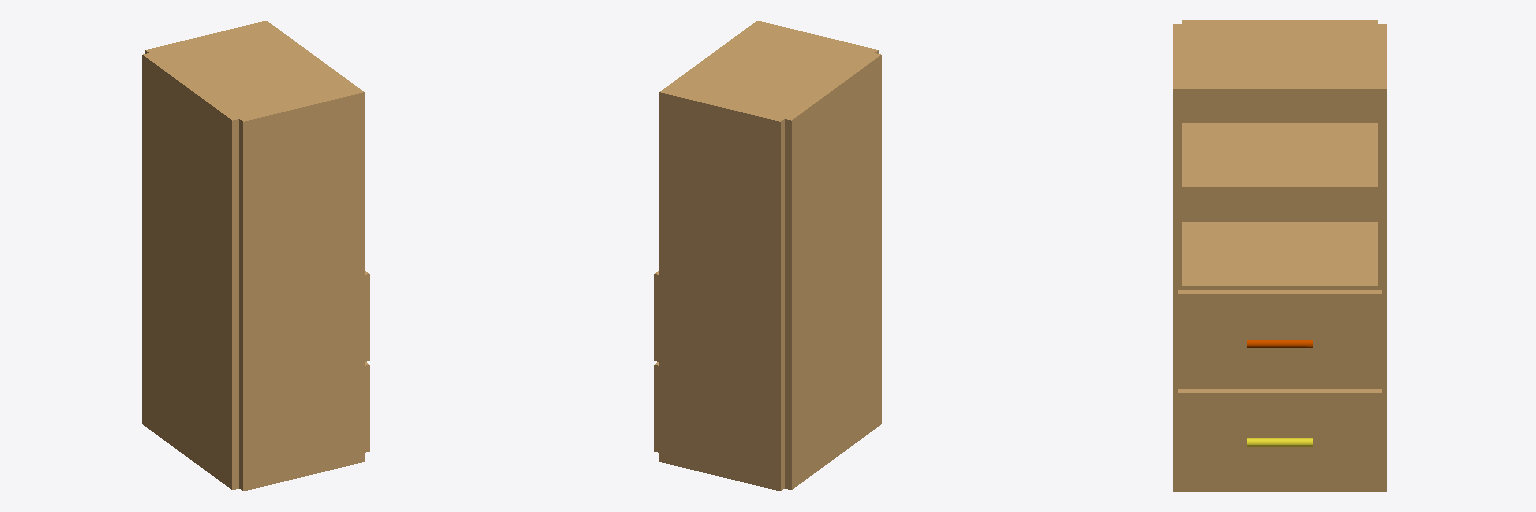
URDF robot description (drawer_shelf):
<robot name="drawer_shelf">

  <material name="Black">
    <color rgba="0.0 0.0 0.0 1.0"/>
  </material>
  <material name="Blue">
    <color rgba="0.1 0.4 0.8 1.0"/>
  </material>
  <material name="Green">
    <color rgba="0.0 0.8 0.0 1.0"/>
  </material>
  <material name="Grey">
    <color rgba="0.5 0.5 0.5 1.0"/>
  </material>
  <material name="Silver">
    <color rgba="0.95 0.95 0.95 1.0"/>
  </material>
  <material name="Wood">
    <color rgba="0.827 0.675 0.463 1.0"/>
  </material>
  <material name="LightWood">
    <color rgba="0.992, 0.871, 0.682, 1.0"/>
  </material>
  <material name="Metal">
    <color rgba="0.718, 0.753, 0.749, 1.0"/>
  </material>


  <link name="cabinet_bottom_plate">
    <inertial>
      <mass value="20.0" />
      <origin xyz="0 0 -1.0" /> 
      <inertia  ixx="2" ixy="0.0"  ixz="0.0"  iyy="2"  iyz="0.0"  izz="2" />
    </inertial>
    <visual>
      <origin xyz="0 0 0.01" rpy="0 0 0" />
      <geometry>
        <box size="0.35 0.45 0.02"/>
      </geometry>
      <material name="Wood"/>
    </visual>
    <collision>
      <origin xyz="0 0 0.01" rpy="0 0 0" />
      <geometry>
        <box size="0.35 0.45 0.02"/>
      </geometry>
    </collision>
  </link>

 <link name="cabinet_middle_plate1">
    <inertial>
      <mass value="1.0" />
      <origin xyz="0 0 0.0" />
      <inertia  ixx="0.01" ixy="0.0"  ixz="0.0"  iyy="0.01"  iyz="0.0"  izz="0.01" />
    </inertial>
    <visual>
      <origin xyz="0 0 0.76" rpy="0 0 0" />
      <geometry>
        <box size="0.35 0.45 0.02"/>
      </geometry>
      <material name="Wood"/>
    </visual>
    <collision>
      <origin xyz="0 0 0.76" rpy="0 0 0" />
      <geometry>
        <box size="0.35 0.45 0.02"/>
      </geometry>
    </collision>
  </link>
  <link name="cabinet_middle_plate2">
    <inertial>
      <mass value="1.0" />
      <origin xyz="0 0 0.0" /> 
      <inertia  ixx="0.01" ixy="0.0"  ixz="0.0"  iyy="0.01"  iyz="0.0"  izz="0.01" />
    </inertial>
    <visual>
      <origin xyz="0 0 0.51" rpy="0 0 0" />
      <geometry>
        <box size="0.35 0.45 0.02"/>
      </geometry>
      <material name="Wood"/>
    </visual>
    <collision>
      <origin xyz="0 0 0.51" rpy="0 0 0" />
      <geometry>
        <box size="0.35 0.45 0.02"/>
      </geometry>
    </collision>
  </link>

  <link name="cabinet_middle_plate3">
    <inertial>
      <mass value="1.0" />
      <origin xyz="0 0 0.0" />
      <inertia  ixx="0.01" ixy="0.0"  ixz="0.0"  iyy="0.01"  iyz="0.0"  izz="0.01" />
    </inertial>
    <visual>
      <origin xyz="0 0 0.26" rpy="0 0 0" />
      <geometry>
        <box size="0.35 0.45 0.02"/>
      </geometry>
      <material name="Wood"/>
    </visual>
    <collision>
      <origin xyz="0 0 0.26" rpy="0 0 0" />
      <geometry>
        <box size="0.35 0.45 0.02"/>
      </geometry>
    </collision>
  </link>
  <link name="cabinet_top_plate">
    <inertial>
      <mass value="1.0" />
      <origin xyz="0 0 0.0" /> 
      <inertia  ixx="0.01" ixy="0.0"  ixz="0.0"  iyy="0.01"  iyz="0.0"  izz="0.01" />
    </inertial>
    <visual>
      <origin xyz="0 0 1.01" rpy="0 0 0" />
      <geometry>
        <box size="0.35 0.45 0.02"/>
      </geometry>
      <material name="Wood"/>
    </visual>
    <collision>
      <origin xyz="0 0 1.01" rpy="0 0 0" />
      <geometry>
        <box size="0.35 0.45 0.02"/>
      </geometry>
    </collision>
  </link>
  <link name="cabinet_left_plate">
    <inertial>
      <mass value="1.0" />
      <origin xyz="0 0 0.0" /> 
      <inertia  ixx="0.01" ixy="0.0"  ixz="0.0"  iyy="0.01"  iyz="0.0"  izz="0.01" />
    </inertial>
    <visual>
      <origin xyz="0 -0.235 0.51" rpy="0 0 0" />
      <geometry>
        <box size="0.35 0.02 1.02"/>
      </geometry>
      <material name="Wood"/>
    </visual>
    <collision>
      <origin xyz="0 -0.235 0.51" rpy="0 0 0" />
      <geometry>
        <box size="0.35 0.02 1.02"/>
      </geometry>
    </collision>
  </link>
  <link name="cabinet_right_plate">
    <inertial>
      <mass value="1.0" />
      <origin xyz="0 0 0.0" /> 
      <inertia  ixx="0.01" ixy="0.0"  ixz="0.0"  iyy="0.01"  iyz="0.0"  izz="0.01" />
    </inertial>
    <visual>
      <origin xyz="0 0.235 0.51" rpy="0 0 0" />
      <geometry>
        <box size="0.35 0.02 1.02"/>
      </geometry>
      <material name="Wood"/>
    </visual>
    <collision>
      <origin xyz="0 0.235 0.51" rpy="0 0 0" />
      <geometry>
        <box size="0.35 0.02 1.02"/>
      </geometry>
    </collision>
  </link>
  <link name="cabinet_back_plate">
    <inertial>
      <mass value="1.0" />
      <origin xyz="0 0 -5" /> 
      <inertia  ixx="0.01" ixy="0.0"  ixz="0.0"  iyy="0.01"  iyz="0.0"  izz="0.01" />
    </inertial>
    <visual>
      <origin xyz="-0.185 0 0.51" rpy="0 0 0" />
      <geometry>
        <box size="0.02 0.45 1.02"/>
      </geometry>
      <material name="Wood"/>
    </visual>
    <collision>
      <origin xyz="-0.185 0 0.51" rpy="0 0 0" />
      <geometry>
        <box size="0.02 0.45 1.02"/>
      </geometry>
    </collision>
  </link>

  <link name="drawer_bottom_plate1">
    <inertial>
      <mass value="1.0" />
      <origin xyz="0 0 0.0" />
      <inertia  ixx="0.01" ixy="0.0"  ixz="0.0"  iyy="0.01"  iyz="0.0"  izz="0.01" />
    </inertial>
    <visual>
      <origin xyz="0 0 0" rpy="0 0 0" />
      <geometry>
        <box size="0.35 0.45 0.02"/>
      </geometry>
      <material name="LightWood"/>
    </visual>
    <collision>
      <origin xyz="0 0 0" rpy="0 0 0" />
      <geometry>
        <box size="0.35 0.45 0.02"/>
      </geometry>
    </collision>
  </link>
  <link name="drawer_left_plate1">
    <inertial>
      <mass value="1.0" />
      <origin xyz="0 0 0.0" />
      <inertia  ixx="0.01" ixy="0.0"  ixz="0.0"  iyy="0.01"  iyz="0.0"  izz="0.01" />
    </inertial>
    <visual>
      <origin xyz="0 -0.215 0.11" rpy="0 0 0" />
      <geometry>
        <box size="0.35 0.02 0.20"/>
      </geometry>
      <material name="LightWood"/>
    </visual>
    <collision>
      <origin xyz="0 -0.215 0.11" rpy="0 0 0" />
      <geometry>
        <box size="0.35 0.02 0.20"/>
      </geometry>
    </collision>
  </link>
  <link name="drawer_right_plate1">
    <inertial>
      <mass value="1.0" />
      <origin xyz="0 0 0.0" />
      <inertia  ixx="0.01" ixy="0.0"  ixz="0.0"  iyy="0.01"  iyz="0.0"  izz="0.01" />
    </inertial>
    <visual>
      <origin xyz="0 0.215 0.11" rpy="0 0 0" />
      <geometry>
        <box size="0.35 0.02 0.20"/>
      </geometry>
      <material name="LightWood"/>
    </visual>
    <collision>
      <origin xyz="0 0.215 0.11" rpy="0 0 0" />
      <geometry>
        <box size="0.35 0.02 0.20"/>
      </geometry>
    </collision>
  </link>
  <link name="drawer_back_plate1">
    <inertial>
      <mass value="1.0" />
      <origin xyz="0 0 0.0" />
      <inertia  ixx="0.01" ixy="0.0"  ixz="0.0"  iyy="0.01"  iyz="0.0"  izz="0.01" />
    </inertial>
    <visual>
      <origin xyz="-0.165 0 0.11" rpy="0 0 0" />
      <geometry>
        <box size="0.02 0.41 0.20"/>
      </geometry>
      <material name="LightWood"/>
    </visual>
    <collision>
      <origin xyz="-0.165 0 0.11" rpy="0 0 0" />
      <geometry>
        <box size="0.02 0.41 0.20"/>
      </geometry>
    </collision>
  </link>
  <link name="drawer_front_plate1">
    <inertial>
      <mass value="1.0" />
      <origin xyz="0 0 0.0" />
      <inertia  ixx="0.01" ixy="0.0"  ixz="0.0"  iyy="0.01"  iyz="0.0"  izz="0.01" />
    </inertial>
    <visual>
      <origin xyz="0.185 0 0.11" rpy="0 0 0" />
      <geometry>
        <box size="0.02 0.47 0.24"/>
      </geometry>
      <material name="Wood"/>
    </visual>
    <collision>
      <origin xyz="0.185 0 0.11" rpy="0 0 0" />
      <geometry>
        <box size="0.02 0.47 0.24"/>
      </geometry>
    </collision>
  </link>
  <link name="drawer_handle_cylinder1">
    <inertial>
      <mass value="0.1" />
      <origin xyz="0.210 0 0.11" />
      <inertia  ixx="0.01" ixy="0.0"  ixz="0.0"  iyy="0.01"  iyz="0.0"  izz="0.01" />
    </inertial>
    <visual>
      <origin xyz="0.210 0 0.11" rpy="1.5706806282723 0 0" />
      <geometry>
        <cylinder radius="0.01" length="0.15"/>
      </geometry>
      <material name="Metal"/>
    </visual>
    <collision>
      <origin xyz="0.210 0 0.11" rpy="1.5706806282723 0 0" />
      <geometry>
        <cylinder radius="0.01" length="0.15"/>
      </geometry>
    </collision>
  </link>


    <link name="drawer_bottom_plate2">
    <inertial>
      <mass value="1.0" />
      <origin xyz="0 0 0.0" />
      <inertia  ixx="0.01" ixy="0.0"  ixz="0.0"  iyy="0.01"  iyz="0.0"  izz="0.01" />
    </inertial>
    <visual>
      <origin xyz="0 0 0" rpy="0 0 0" />
      <geometry>
        <box size="0.35 0.45 0.02"/>
      </geometry>
      <material name="LightWood"/>
    </visual>
    <collision>
      <origin xyz="0 0 0" rpy="0 0 0" />
      <geometry>
        <box size="0.35 0.45 0.02"/>
      </geometry>
    </collision>
  </link>
  <link name="drawer_left_plate2">
    <inertial>
      <mass value="1.0" />
      <origin xyz="0 0 0.0" />
      <inertia  ixx="0.01" ixy="0.0"  ixz="0.0"  iyy="0.01"  iyz="0.0"  izz="0.01" />
    </inertial>
    <visual>
      <origin xyz="0 -0.215 0.11" rpy="0 0 0" />
      <geometry>
        <box size="0.35 0.02 0.20"/>
      </geometry>
      <material name="LightWood"/>
    </visual>
    <collision>
      <origin xyz="0 -0.215 0.11" rpy="0 0 0" />
      <geometry>
        <box size="0.35 0.02 0.20"/>
      </geometry>
    </collision>
  </link>
  <link name="drawer_right_plate2">
    <inertial>
      <mass value="1.0" />
      <origin xyz="0 0 0.0" />
      <inertia  ixx="0.01" ixy="0.0"  ixz="0.0"  iyy="0.01"  iyz="0.0"  izz="0.01" />
    </inertial>
    <visual>
      <origin xyz="0 0.215 0.11" rpy="0 0 0" />
      <geometry>
        <box size="0.35 0.02 0.20"/>
      </geometry>
      <material name="LightWood"/>
    </visual>
    <collision>
      <origin xyz="0 0.215 0.11" rpy="0 0 0" />
      <geometry>
        <box size="0.35 0.02 0.20"/>
      </geometry>
    </collision>
  </link>
  <link name="drawer_back_plate2">
    <inertial>
      <mass value="1.0" />
      <origin xyz="0 0 0.0" />
      <inertia  ixx="0.01" ixy="0.0"  ixz="0.0"  iyy="0.01"  iyz="0.0"  izz="0.01" />
    </inertial>
    <visual>
      <origin xyz="-0.165 0 0.11" rpy="0 0 0" />
      <geometry>
        <box size="0.02 0.41 0.20"/>
      </geometry>
      <material name="LightWood"/>
    </visual>
    <collision>
      <origin xyz="-0.165 0 0.11" rpy="0 0 0" />
      <geometry>
        <box size="0.02 0.41 0.20"/>
      </geometry>
    </collision>
  </link>
  <link name="drawer_front_plate2">
    <inertial>
      <mass value="1.0" />
      <origin xyz="0 0 0.0" />
      <inertia  ixx="0.01" ixy="0.0"  ixz="0.0"  iyy="0.01"  iyz="0.0"  izz="0.01" />
    </inertial>
    <visual>
      <origin xyz="0.185 0 0.11" rpy="0 0 0" />
      <geometry>
        <box size="0.02 0.47 0.24"/>
      </geometry>
      <material name="Wood"/>
    </visual>
    <collision>
      <origin xyz="0.185 0 0.11" rpy="0 0 0" />
      <geometry>
        <box size="0.02 0.47 0.24"/>
      </geometry>
    </collision>
  </link>
  <link name="drawer_handle_cylinder2">
    <inertial>
      <mass value="0.1" />
      <origin xyz="0.210 0 0.11" />
      <inertia  ixx="0.01" ixy="0.0"  ixz="0.0"  iyy="0.01"  iyz="0.0"  izz="0.01" />
    </inertial>
    <visual>
      <origin xyz="0.210 0 0.11" rpy="1.5706806282723 0 0" />
      <geometry>
        <cylinder radius="0.01" length="0.15"/>
      </geometry>
      <material name="Metal"/>
    </visual>
    <collision>
      <origin xyz="0.210 0 0.11" rpy="1.5706806282723 0 0" />
      <geometry>
        <cylinder radius="0.01" length="0.15"/>
      </geometry>
    </collision>
  </link>


  <joint name="middle_plate1" type="fixed">
    <parent link="cabinet_bottom_plate"/>
    <child link="cabinet_middle_plate1"/>
    <origin xyz="0 0 0"/>
  </joint>
  <joint name="middle_plate2" type="fixed">
    <parent link="cabinet_bottom_plate"/>
    <child link="cabinet_middle_plate2"/>
    <origin xyz="0 0 0"/>
  </joint>
  <joint name="middle_plate3" type="fixed">
    <parent link="cabinet_bottom_plate"/>
    <child link="cabinet_middle_plate3"/>
    <origin xyz="0 0 0"/>
  </joint>
  <joint name="top_plate" type="fixed">
    <parent link="cabinet_bottom_plate"/>
    <child link="cabinet_top_plate"/>
    <origin xyz="0 0 0"/>
  </joint>
  <joint name="left_plate" type="fixed">
    <parent link="cabinet_bottom_plate"/>
    <child link="cabinet_left_plate"/>
    <origin xyz="0 0 0"/>
  </joint>
  <joint name="right_plate" type="fixed">
    <parent link="cabinet_bottom_plate"/>
    <child link="cabinet_right_plate"/>
    <origin xyz="0 0 0"/>
  </joint>
  <joint name="back_plate" type="fixed">
    <parent link="cabinet_bottom_plate"/>
    <child link="cabinet_back_plate"/>
    <origin xyz="0 0 0"/>
  </joint>



  <joint name="drawer_rail1" type="prismatic">
    <parent link="cabinet_bottom_plate"/>
    <child link="drawer_bottom_plate1"/>
    <origin rpy="0 0 0" xyz="0 0 0.28"/>
    <axis xyz="1 0 0"/>
    <limit upper="0.40" lower="0" velocity="100" effort="100"/>
  </joint>
  <joint name="drawer_left1" type="fixed">
    <parent link="drawer_bottom_plate1"/>
    <child link="drawer_left_plate1"/>
    <origin xyz="0 0 0"/>
  </joint>
  <joint name="drawer_right1" type="fixed">
    <parent link="drawer_bottom_plate1"/>
    <child link="drawer_right_plate1"/>
    <origin xyz="0 0 0"/>
  </joint>
  <joint name="drawer_back1" type="fixed">
    <parent link="drawer_bottom_plate1"/>
    <child link="drawer_back_plate1"/>
    <origin xyz="0 0 0"/>
  </joint>
  <joint name="drawer_front1" type="fixed">
    <parent link="drawer_bottom_plate1"/>
    <child link="drawer_front_plate1"/>
    <origin xyz="0 0 0"/>
  </joint>
  <joint name="drawer_handle1" type="fixed">
    <parent link="drawer_bottom_plate1"/>
    <child link="drawer_handle_cylinder1"/>
    <origin xyz="0 0 0"/>
  </joint>


  <joint name="drawer_rail2" type="prismatic">
    <parent link="cabinet_bottom_plate"/>
    <child link="drawer_bottom_plate2"/>
    <origin rpy="0 0 0" xyz="0 0 0.03"/>
    <axis xyz="1 0 0"/>
    <limit upper="0.40" lower="0" velocity="100" effort="100"/>
  </joint>
  <joint name="drawer_left2" type="fixed">
    <parent link="drawer_bottom_plate2"/>
    <child link="drawer_left_plate2"/>
    <origin xyz="0 0 0"/>
  </joint>
  <joint name="drawer_right2" type="fixed">
    <parent link="drawer_bottom_plate2"/>
    <child link="drawer_right_plate2"/>
    <origin xyz="0 0 0"/>
  </joint>
  <joint name="drawer_back2" type="fixed">
    <parent link="drawer_bottom_plate2"/>
    <child link="drawer_back_plate2"/>
    <origin xyz="0 0 0"/>
  </joint>
  <joint name="drawer_front2" type="fixed">
    <parent link="drawer_bottom_plate2"/>
    <child link="drawer_front_plate2"/>
    <origin xyz="0 0 0"/>
  </joint>
  <joint name="drawer_handle2" type="fixed">
    <parent link="drawer_bottom_plate2"/>
    <child link="drawer_handle_cylinder2"/>
    <origin xyz="0 0 0"/>
  </joint>


  <gazebo reference="cabinet_bottom_plate">
    <mu1>100.0</mu1>
    <mu2>100.0</mu2>
  </gazebo>
  <gazebo>
    <static>true</static>
  </gazebo>
</robot>

--- Facts derived from the render (not from the file) ---
The picture shows the robot from 3 angles, left to right: view 1: azimuth 30°, elevation 25°; view 2: azimuth 150°, elevation 25°; view 3: azimuth 270°, elevation 25°; orthographic projection.
Robot: drawer_shelf — 20 links, 19 joints (2 prismatic, 17 fixed); root link cabinet_bottom_plate; default pose: every joint at zero.
Visible links, largest first — view 1: cabinet_left_plate, cabinet_back_plate, cabinet_top_plate; view 2: cabinet_right_plate, cabinet_back_plate, cabinet_top_plate; view 3: drawer_front_plate1, drawer_front_plate2, cabinet_top_plate, cabinet_middle_plate1, cabinet_middle_plate2, cabinet_back_plate, cabinet_left_plate, cabinet_right_plate, cabinet_bottom_plate, drawer_handle_cylinder2, drawer_handle_cylinder1.
Link boxes in pixels (box(x1,y1,x2,y2)): cabinet_left_plate: box(239, 89, 364, 490); cabinet_back_plate: box(142, 53, 238, 489); cabinet_top_plate: box(150, 23, 359, 118); cabinet_right_plate: box(659, 89, 784, 490); cabinet_back_plate: box(785, 53, 881, 489); cabinet_top_plate: box(664, 23, 873, 118); drawer_front_plate1: box(1178, 290, 1381, 388); drawer_front_plate2: box(1178, 389, 1381, 486); cabinet_top_plate: box(1182, 24, 1377, 96); cabinet_middle_plate1: box(1182, 123, 1377, 194); cabinet_middle_plate2: box(1182, 222, 1377, 289); cabinet_back_plate: box(1182, 20, 1377, 221); cabinet_left_plate: box(1173, 24, 1181, 491); cabinet_right_plate: box(1378, 24, 1386, 491); cabinet_bottom_plate: box(1182, 487, 1377, 491); drawer_handle_cylinder2: box(1247, 438, 1312, 446); drawer_handle_cylinder1: box(1247, 340, 1312, 347).
Size in the robot's own frame: 0.415 by 0.49 by 1.02 metres.
Geometry: primitives only (box / cylinder / sphere), no mesh files.
